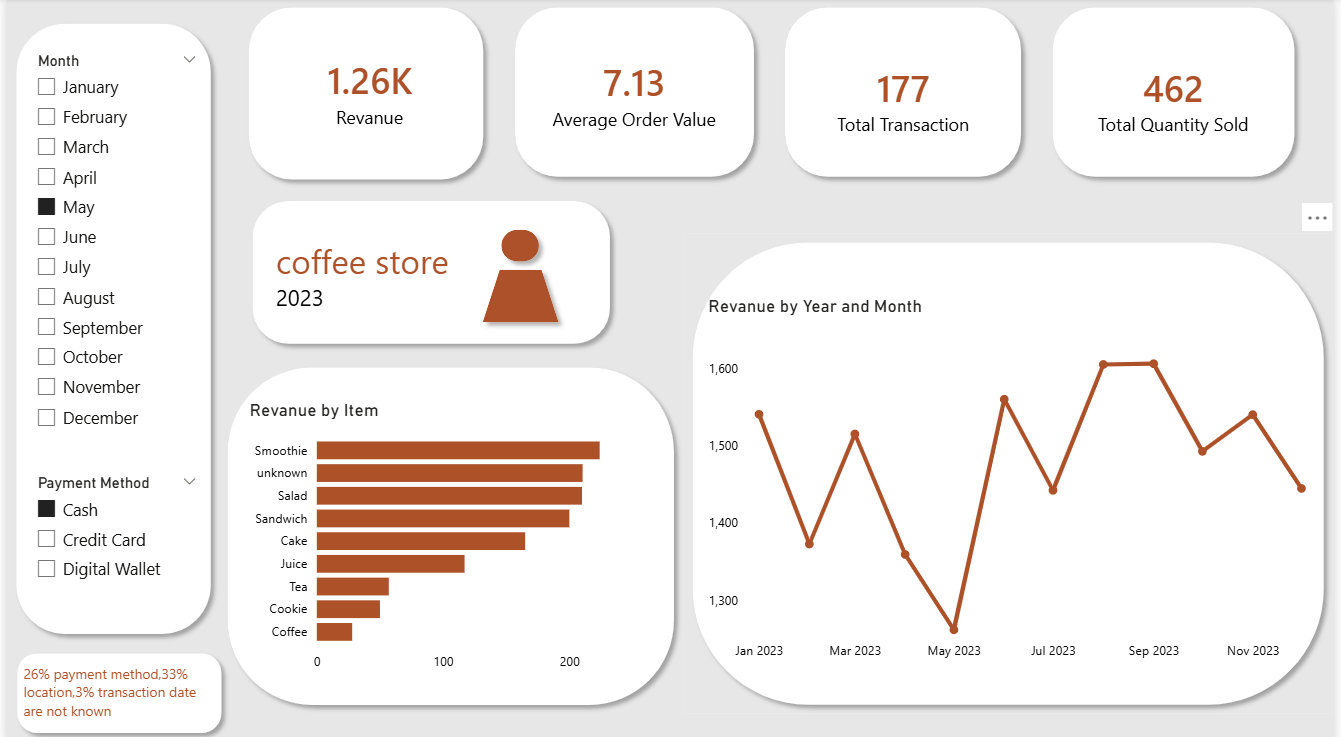

What the dashboard file says about the page in this screenshot:
{"tool":"powerbi","page":{"name":"Page 1","canvas":[1280,720],"ordinal":0},"visuals":[{"type":"shape","box":[0,622.9,217.1,97.1],"z":0},{"type":"shape","box":[741.4,0,245.7,181.4],"z":1000},{"type":"shape","box":[1000,0,251.4,181.4],"z":2000},{"type":"shape","box":[224.3,0,244.3,184.3],"z":3000},{"type":"shape","box":[481.4,0,248.6,181.4],"z":4000},{"type":"cardVisual","fields":{"Data":["dirty_cafe_sales1.revanue"]},"box":[228.6,0,244.3,181.4],"z":5000},{"type":"cardVisual","fields":{"Data":["dirty_cafe_sales1.t transaction"]},"box":[735.7,0,258.6,195.7],"z":6000},{"type":"cardVisual","fields":{"Data":["dirty_cafe_sales1.t q sold"]},"box":[1000,0,251.4,195.7],"z":7000},{"type":"shape","box":[0,15.7,205.7,607.1],"z":8000},{"type":"cardVisual","fields":{"Data":["dirty_cafe_sales1.aov"]},"box":[475.7,0,260,184.3],"z":9000},{"type":"slicer","fields":{"Values":["dirty_cafe_sales1.Payment Method"]},"box":[16.4,454.3,178.6,131.4],"z":10000},{"type":"shape","box":[652.9,227.1,627.1,464.3],"z":11000},{"type":"lineChart","fields":{"Y":["dirty_cafe_sales1.revanue"],"Category":["dirty_cafe_sales1.Transaction Date.Variation.Date Hierarchy.Year","dirty_cafe_sales1.Transaction Date.Variation.Date Hierarchy.Month"]},"box":[671.4,287.1,608.6,361.4],"z":12000},{"type":"shape","box":[203.9,347.5,448.8,343.8],"z":13000},{"type":"barChart","fields":{"Category":["dirty_cafe_sales1.Item"],"Y":["dirty_cafe_sales1.revanue"]},"box":[229.2,387.3,389.7,271.4],"z":14000},{"type":"shape","box":[228.6,187.1,362.9,155.7],"z":15000},{"type":"textbox","box":[254.3,227.1,241.4,84.3],"z":16000},{"type":"shape","box":[450,252.9,91.4,68.6],"z":17000},{"type":"shape","box":[468.6,214.3,54.3,48.6],"z":18000},{"type":"slicer","fields":{"Values":["dirty_cafe_sales1.Transaction Date.Variation.Date Hierarchy.Month"]},"box":[16.4,47.1,178.6,382.9],"z":19000},{"type":"textbox","box":[11.4,638.6,205.7,65.7],"z":20000}]}

Visuals, with their boxes in screenshot pixels (x1, y1, x2, y2), scaled from the page's 1280x720 canvas onto the 1341x737 screenshot:
shape: rect(0, 638, 227, 736)
shape: rect(777, 0, 1034, 186)
shape: rect(1048, 0, 1311, 186)
shape: rect(235, 0, 491, 189)
shape: rect(504, 0, 765, 186)
cardVisual - dirty_cafe_sales1.revanue: rect(239, 0, 495, 186)
cardVisual - dirty_cafe_sales1.t transaction: rect(771, 0, 1042, 200)
cardVisual - dirty_cafe_sales1.t q sold: rect(1048, 0, 1311, 200)
shape: rect(0, 16, 216, 638)
cardVisual - dirty_cafe_sales1.aov: rect(498, 0, 771, 189)
slicer - dirty_cafe_sales1.Payment Method: rect(17, 465, 204, 600)
shape: rect(684, 232, 1340, 708)
lineChart - dirty_cafe_sales1.revanue x dirty_cafe_sales1.Transaction Date.Variation.Date Hierarchy.Year: rect(703, 294, 1340, 664)
shape: rect(214, 356, 684, 708)
barChart - dirty_cafe_sales1.Item x dirty_cafe_sales1.revanue: rect(240, 396, 648, 674)
shape: rect(239, 192, 620, 351)
textbox: rect(266, 232, 519, 319)
shape: rect(471, 259, 567, 329)
shape: rect(491, 219, 548, 269)
slicer - dirty_cafe_sales1.Transaction Date.Variation.Date Hierarchy.Month: rect(17, 48, 204, 440)
textbox: rect(12, 654, 227, 721)
